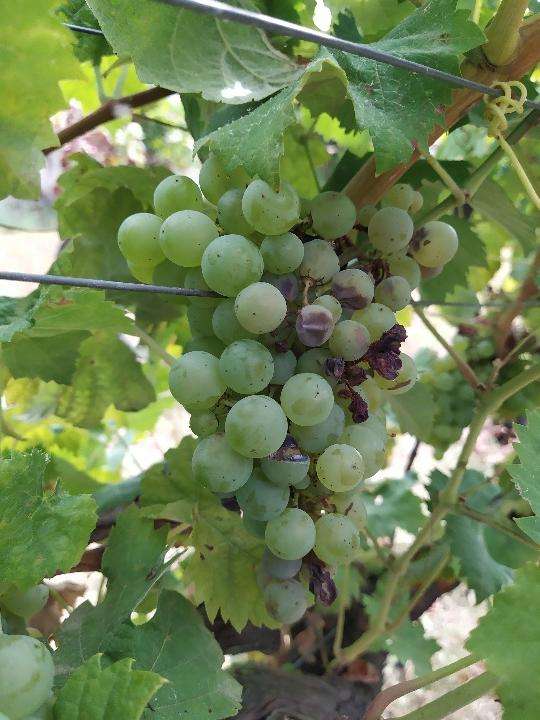grape: (114, 153, 461, 627)
